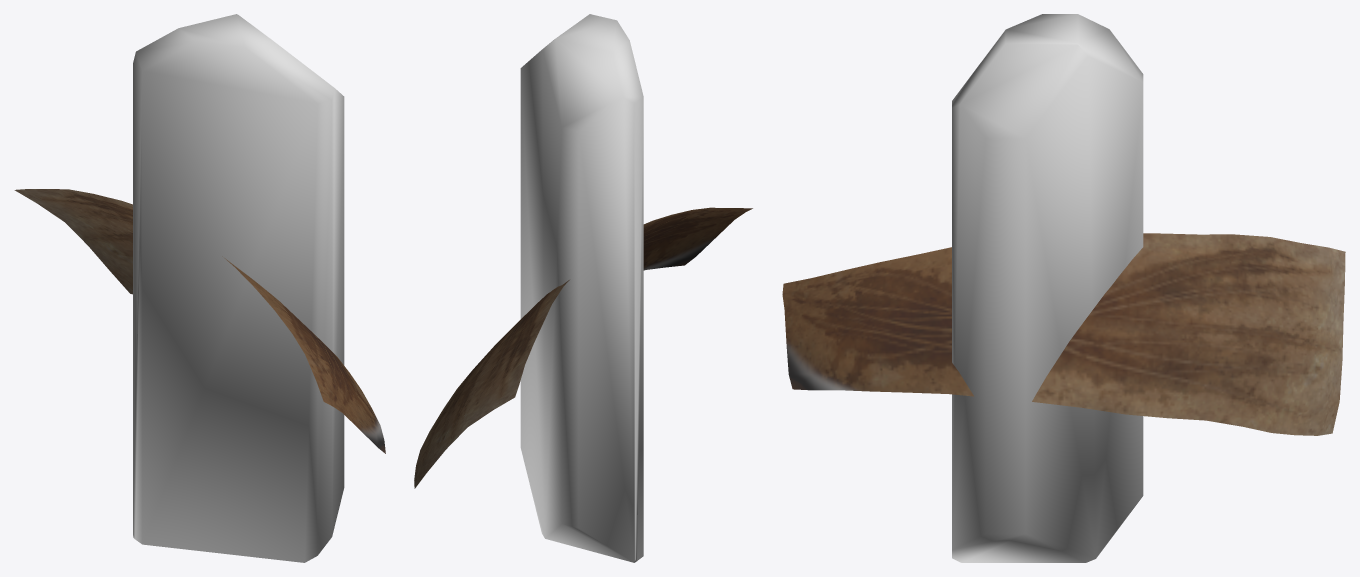
The model's file is SM_Coir_Bent__Plane_019.fbx.
The picture shows the model from 3 angles, left to right: view 1: azimuth 30°, elevation 25°; view 2: azimuth 150°, elevation 25°; view 3: azimuth 270°, elevation 25°; orthographic projection. The views are drawn at different scales.
Visible parts, largest first — view 1: SM_Coir_Bent__Plane_019_ConvexHulls, SM_Coir_Bent__Plane_019; view 2: SM_Coir_Bent__Plane_019_ConvexHulls, SM_Coir_Bent__Plane_019; view 3: SM_Coir_Bent__Plane_019_ConvexHulls, SM_Coir_Bent__Plane_019.
Boxes of the visible parts, box(x1,y1,x2,y2) form: SM_Coir_Bent__Plane_019_ConvexHulls: box(133, 14, 344, 562); SM_Coir_Bent__Plane_019: box(14, 189, 385, 453); SM_Coir_Bent__Plane_019_ConvexHulls: box(520, 14, 643, 562); SM_Coir_Bent__Plane_019: box(414, 207, 752, 488); SM_Coir_Bent__Plane_019_ConvexHulls: box(952, 14, 1143, 562); SM_Coir_Bent__Plane_019: box(782, 233, 1345, 435).
Size of the model in its own units: 0.0742 by 0.2334 by 0.2312.
